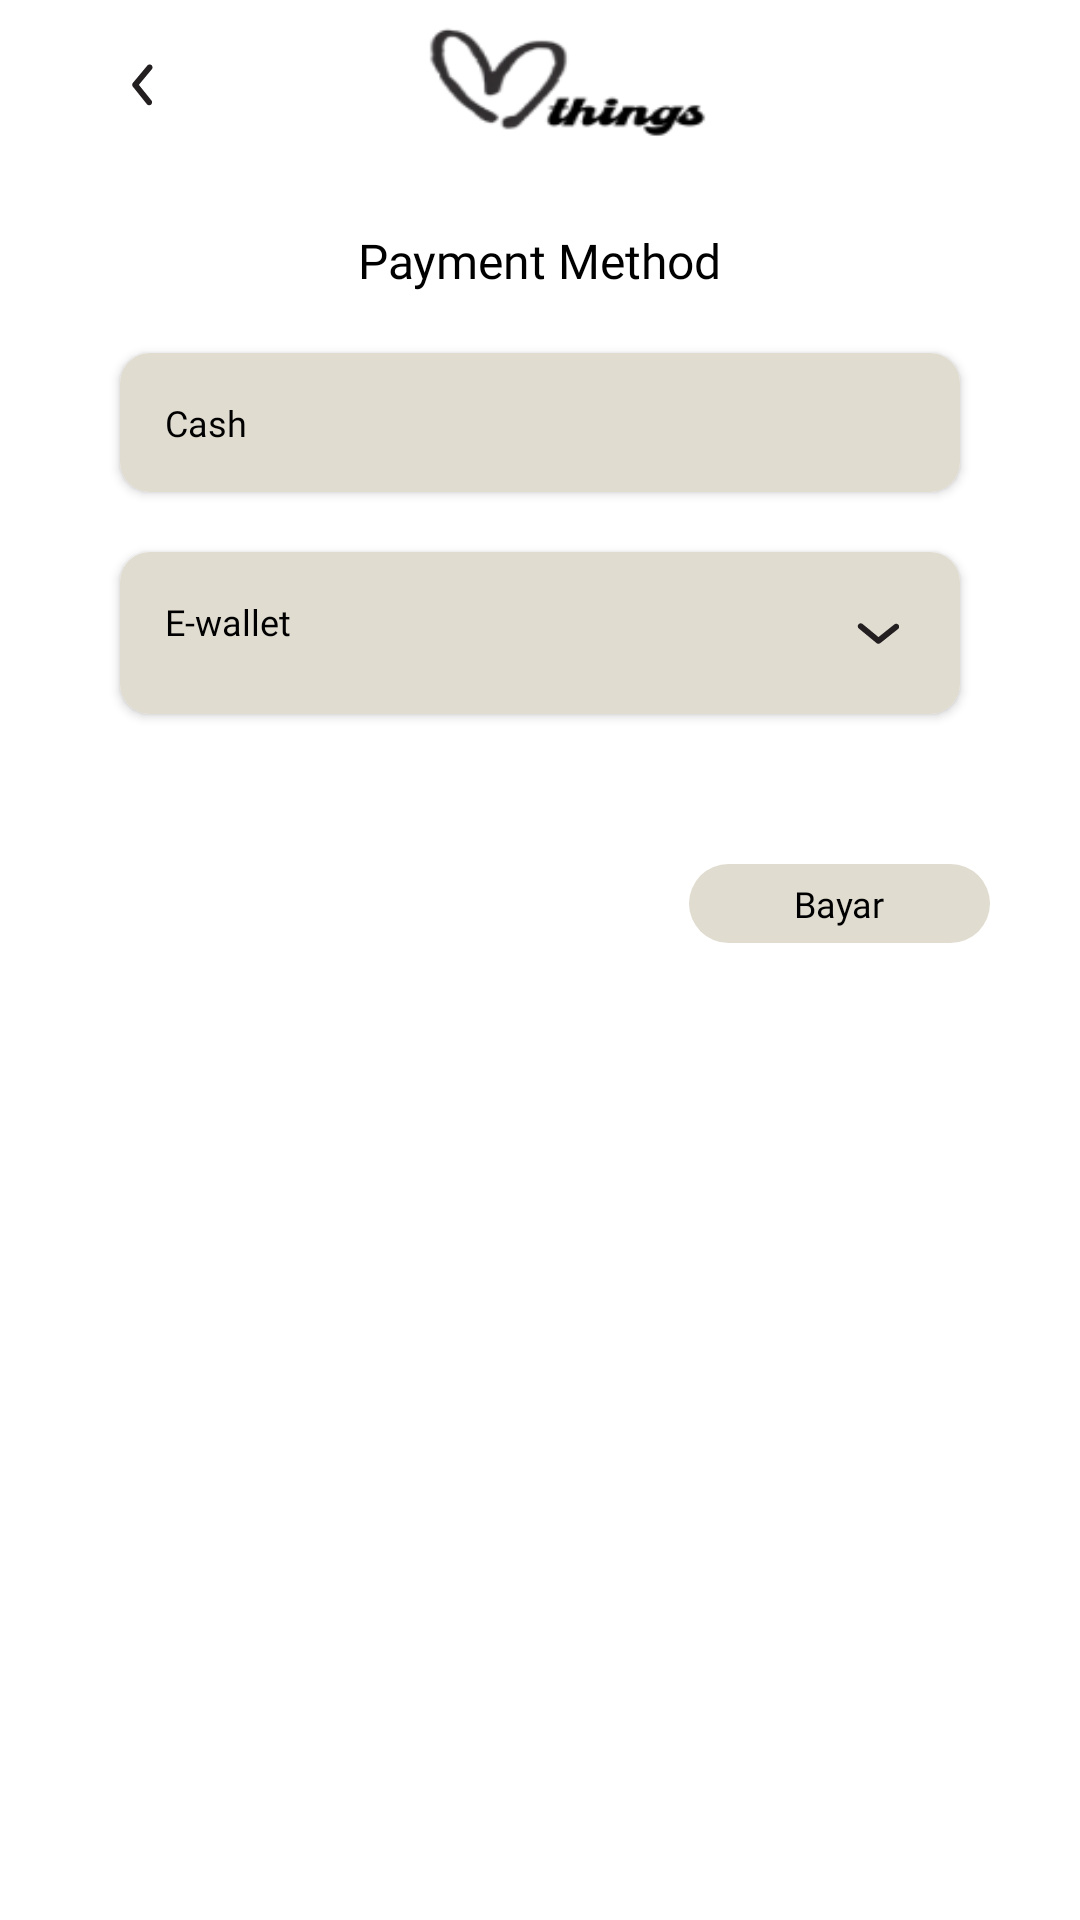

Where icons sit on this 1080w x 1920h app screen, as (x1, y1, x2, y2):
row bottom: (857, 623, 899, 644)
row left: (132, 64, 153, 106)
